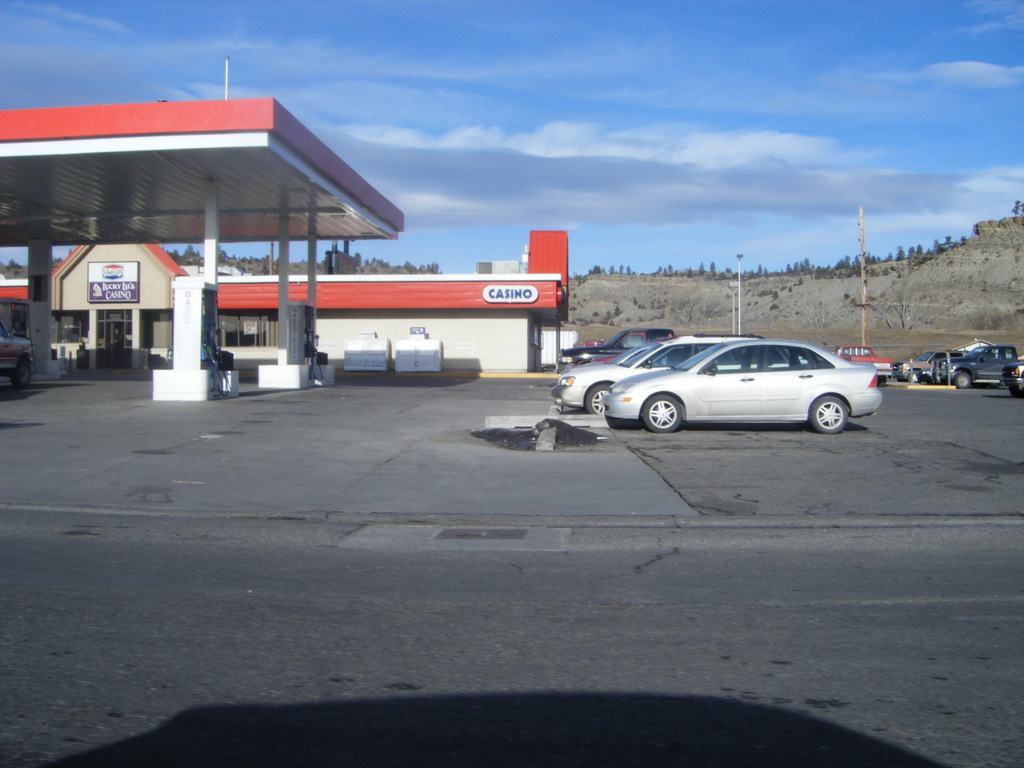mobil: (607, 342, 883, 435)
